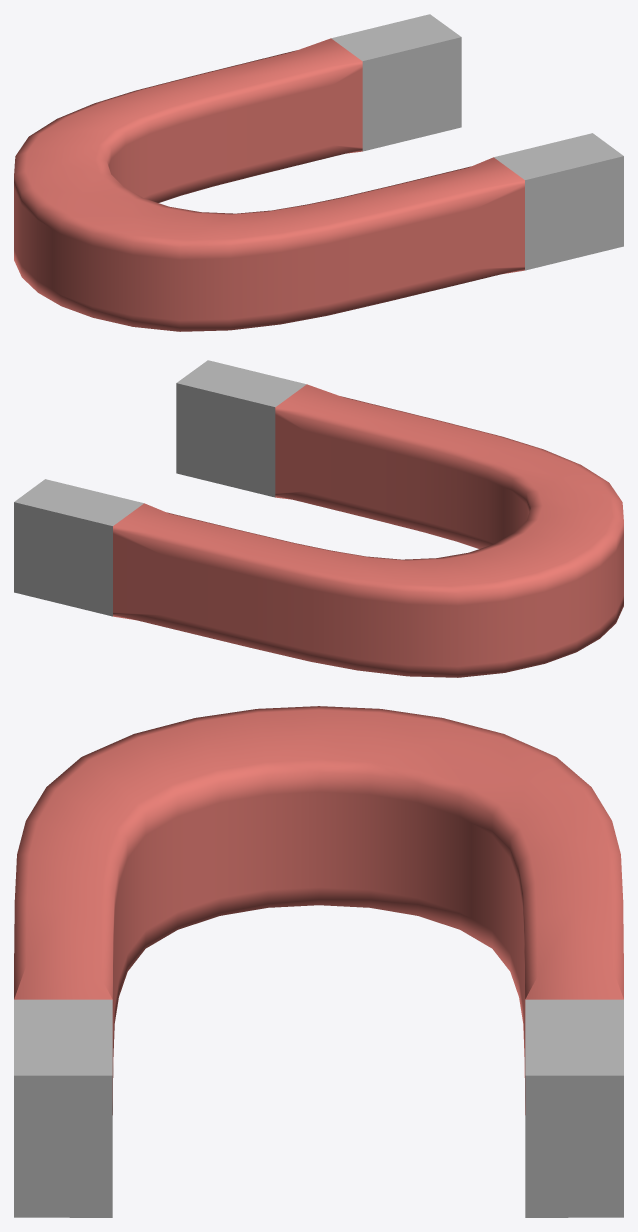
File: Magnet.fbx
3 views of the same model, one above another, from view 1: azimuth 30°, elevation 25°; view 2: azimuth 150°, elevation 25°; view 3: azimuth 270°, elevation 25° (orthographic). The views are drawn at different scales.
Parts seen in each view (by area): view 1: polySurface4, metal2, metal01; view 2: polySurface4, metal01, metal2; view 3: polySurface4, metal2, metal01.
Part boxes in pixels (x1,y1,x2,y2): polySurface4: (14, 38, 524, 331); metal2: (331, 14, 461, 151); metal01: (494, 133, 623, 270); polySurface4: (113, 384, 623, 677); metal01: (176, 360, 306, 497); metal2: (14, 479, 143, 616); polySurface4: (14, 706, 623, 1114); metal2: (525, 999, 623, 1217); metal01: (14, 999, 112, 1217).
Size of the model in its own units: 0.1228 by 0.0217 by 0.0843.
